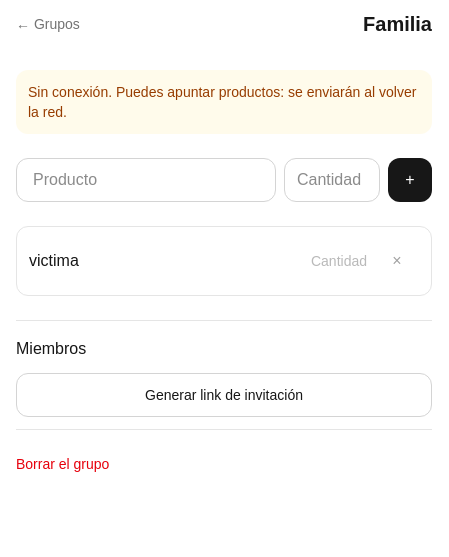
Scenario: R6 la fila que desaparece mientras la editas no se lleva tu texto › avisa y conserva la fila si hay una edición en curso
Replace the text in the field named "Nombre" with "victima editada" at (154, 261), box [29,239,279,283]
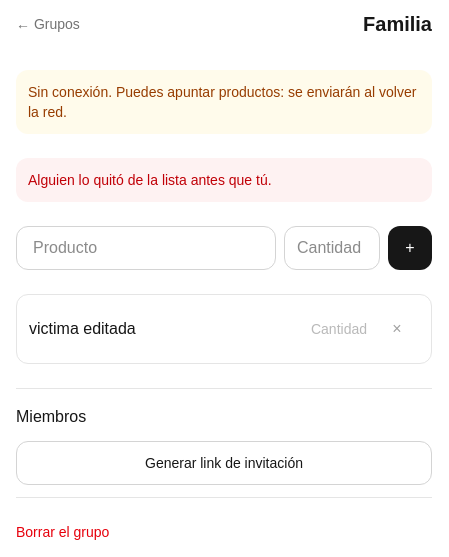
Check: the message with test id "notice" reads "Alguien lo quitó de la lista antes que tú.", box [28,172,272,188]
